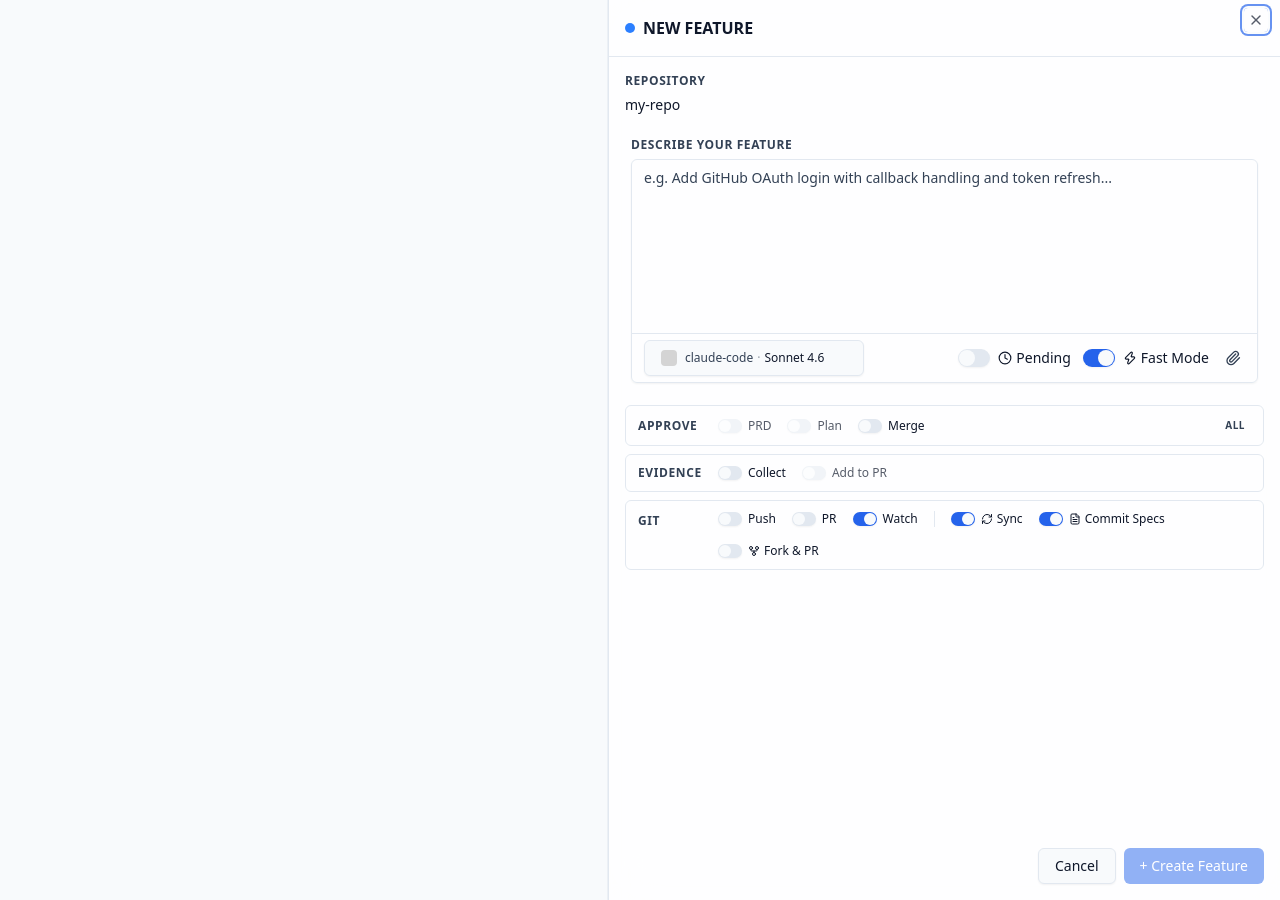
Test: FeatureCreateDrawer › auto-approve All toggle button › clicking All button deselects all when all are selected
The width and height of the screenshot is (1280, 900).
Select all via button
Click the button "All" at (1235, 426), box [1219,416,1251,435]
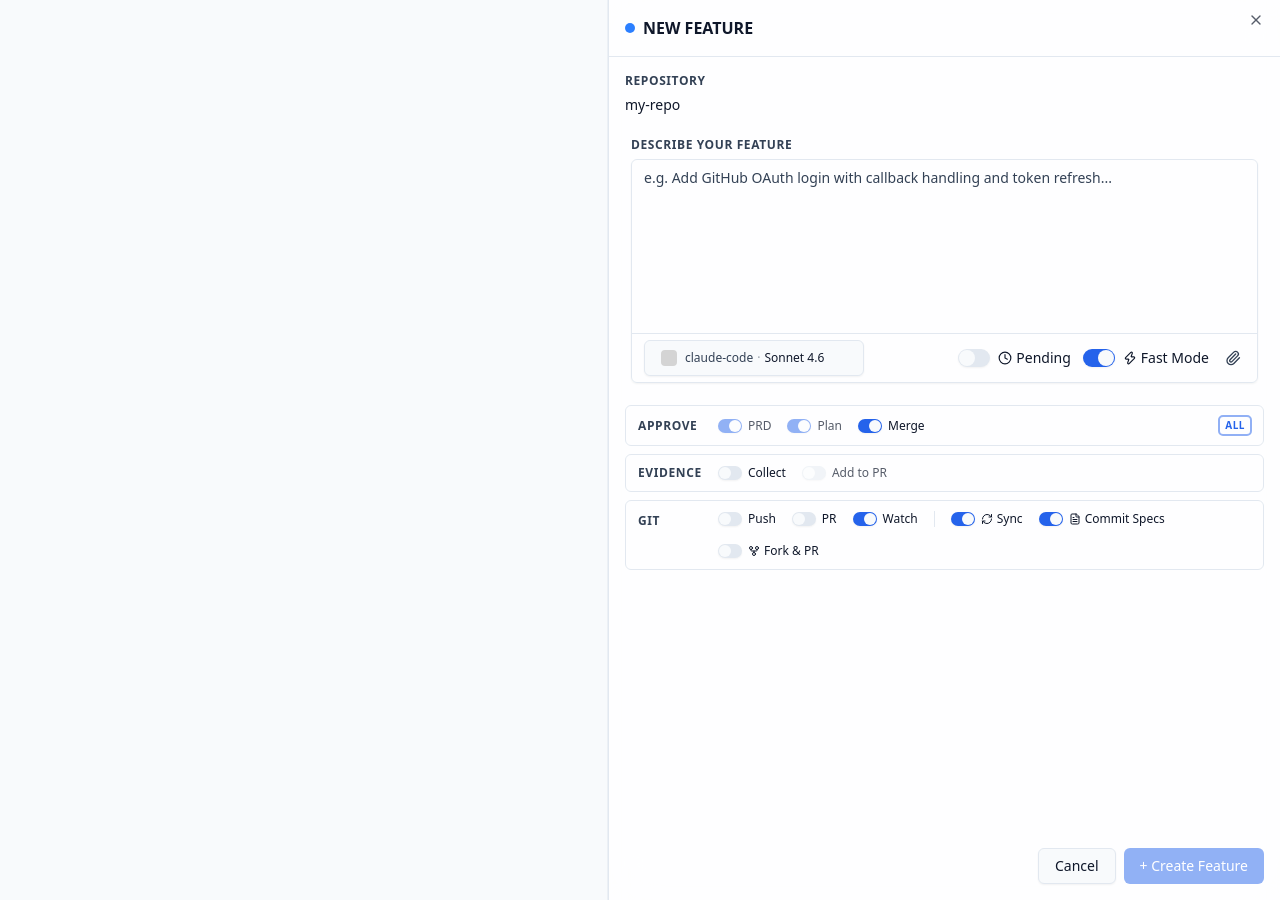
Expected: the switch named "PRD" next to "PRD" is checked, [718,418,742,432]
Click again to deselect all
Click the button "All" at (1235, 426), box [1219,416,1251,435]
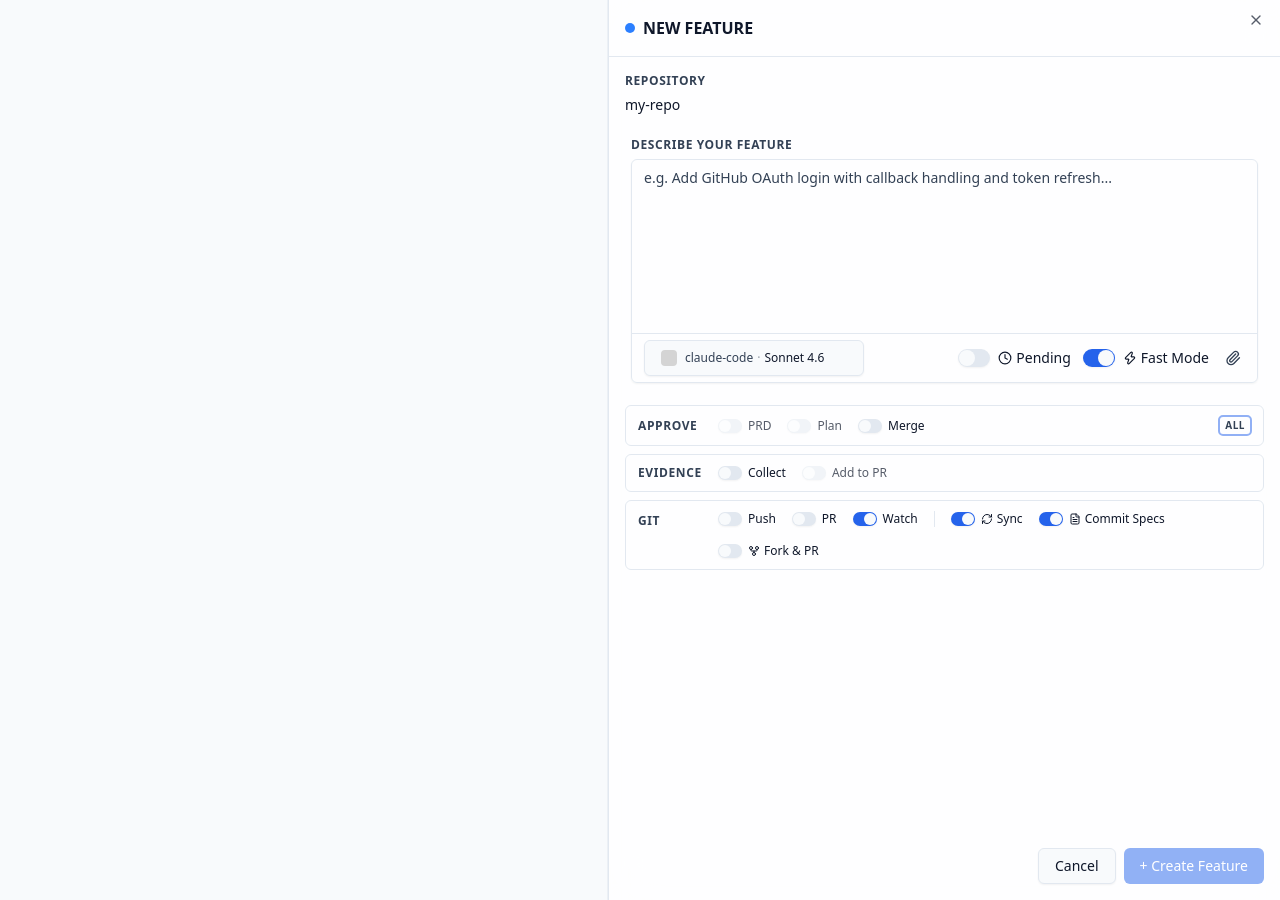
Expected: the switch named "Merge" next to "Merge" is not checked, [858,418,882,432]
